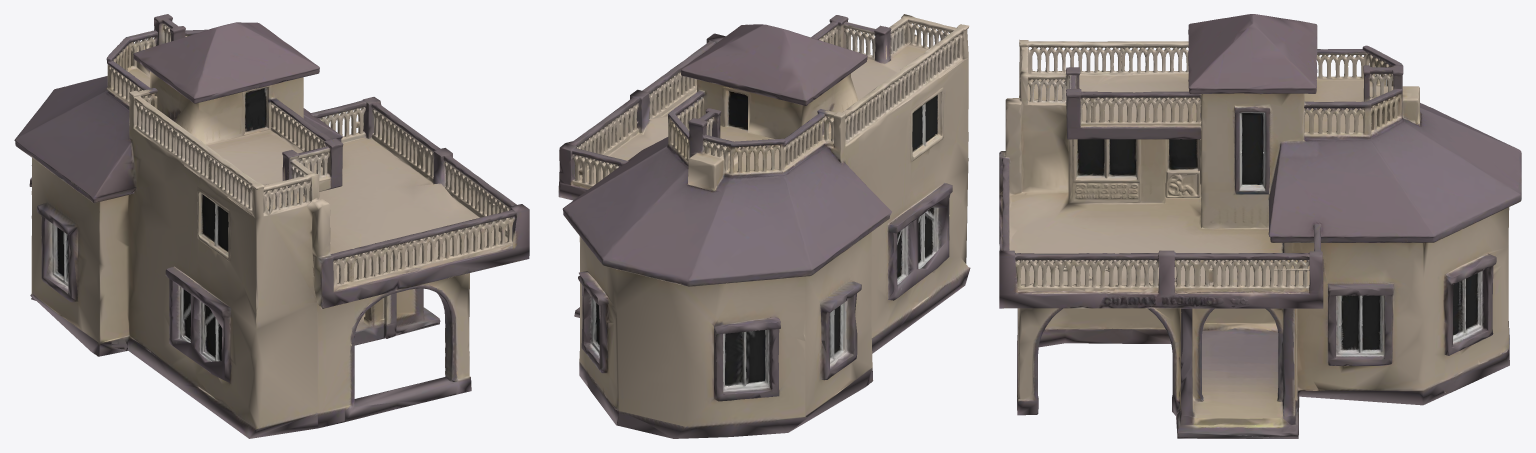
Rendered from PenielVilla.glb.
3 views of the same model, side by side, from view 1: azimuth 30°, elevation 25°; view 2: azimuth 150°, elevation 25°; view 3: azimuth 270°, elevation 25° (orthographic). The views are drawn at different scales.
Visible parts, largest first — view 1: tripo_node_2778e8d1-5718-4d31-86b5-aeead0074bdc; view 2: tripo_node_2778e8d1-5718-4d31-86b5-aeead0074bdc; view 3: tripo_node_2778e8d1-5718-4d31-86b5-aeead0074bdc.
Part boxes in pixels (x1=…): tripo_node_2778e8d1-5718-4d31-86b5-aeead0074bdc: x1=14, y1=14, x2=529, y2=438; tripo_node_2778e8d1-5718-4d31-86b5-aeead0074bdc: x1=558, y1=14, x2=970, y2=438; tripo_node_2778e8d1-5718-4d31-86b5-aeead0074bdc: x1=999, y1=14, x2=1521, y2=438.
Size of the model in its own units: 0.6953 by 0.6812 by 0.9776.
1 material, 1 textured.
